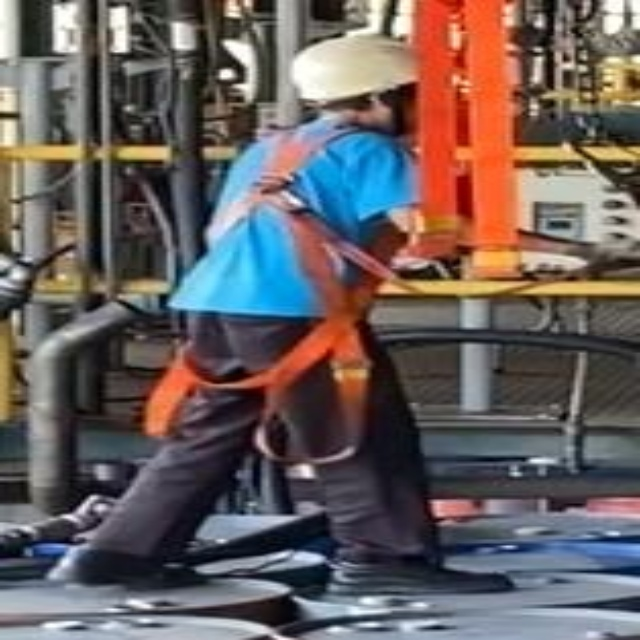Arnes_seguridad: (139, 130, 410, 469)
